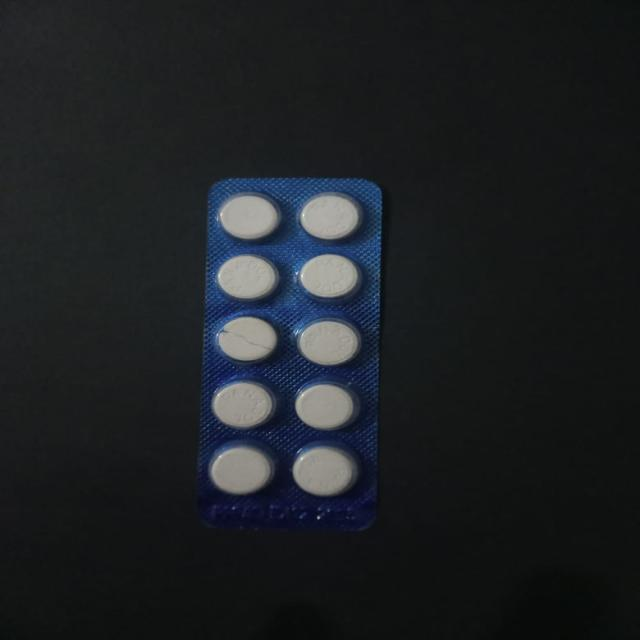defect: (213, 313, 282, 367)
